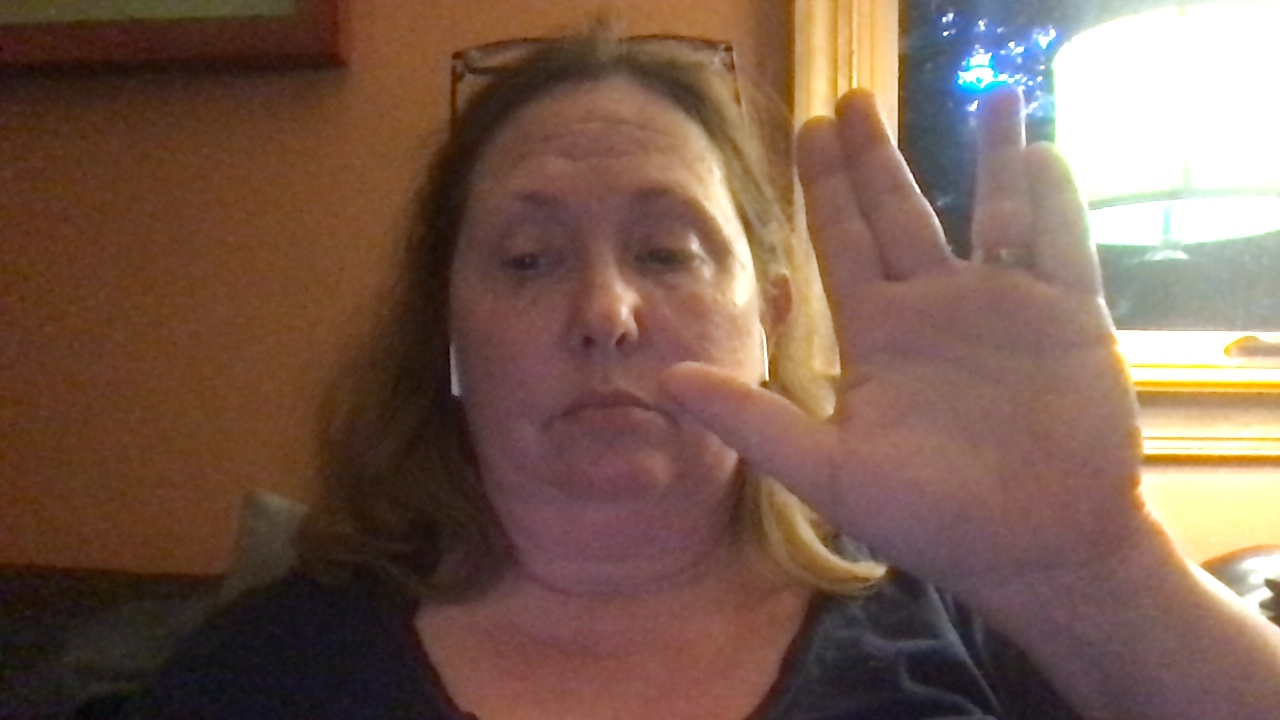livelong: (657, 80, 1146, 580)
